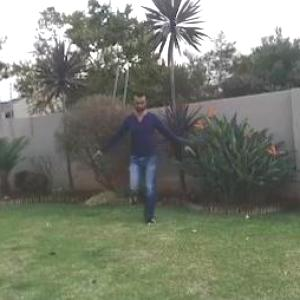land: (93, 82, 207, 226)
